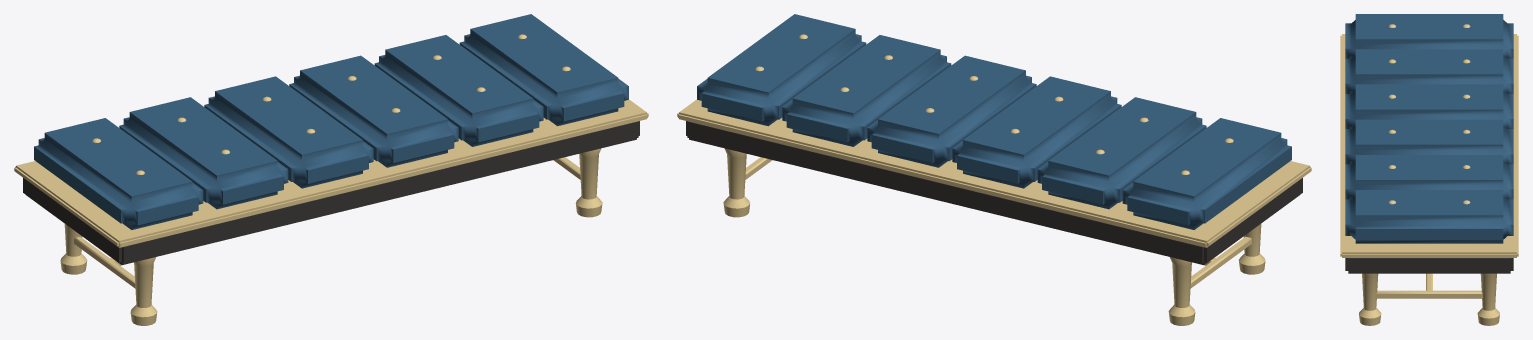
Rendered from atelier_museum_bench.glb.
3 renders of one model, left to right at view 1: azimuth 30°, elevation 25°; view 2: azimuth 150°, elevation 25°; view 3: azimuth 270°, elevation 25°, orthographic. The views are drawn at different scales.
Parts seen in each view (by area): view 1: Bench_TuftedCushion_Velvet, Bench_LegsAndButtons_Gold, Bench_Frame_Nero; view 2: Bench_TuftedCushion_Velvet, Bench_LegsAndButtons_Gold, Bench_Frame_Nero; view 3: Bench_TuftedCushion_Velvet, Bench_LegsAndButtons_Gold, Bench_Frame_Nero.
Boxes of the visible parts, <box> form: Bench_TuftedCushion_Velvet: <box>34,14,628,229</box>; Bench_LegsAndButtons_Gold: <box>14,34,648,325</box>; Bench_Frame_Nero: <box>23,121,639,265</box>; Bench_TuftedCushion_Velvet: <box>697,14,1291,229</box>; Bench_LegsAndButtons_Gold: <box>677,34,1311,325</box>; Bench_Frame_Nero: <box>686,121,1302,265</box>; Bench_TuftedCushion_Velvet: <box>1345,14,1513,243</box>; Bench_LegsAndButtons_Gold: <box>1340,24,1518,325</box>; Bench_Frame_Nero: <box>1345,258,1513,273</box>.
Bounding box in the file's own units: 2.1 × 0.5208 × 0.72.
